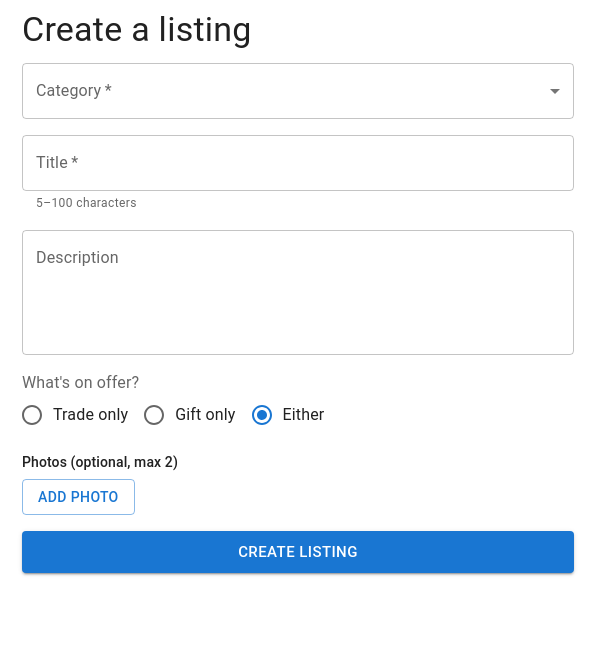
CreateListingPage › shows a server-side validation error inline
Click the dropdown named "category": (298, 91) x1=22 y1=63 x2=574 y2=119
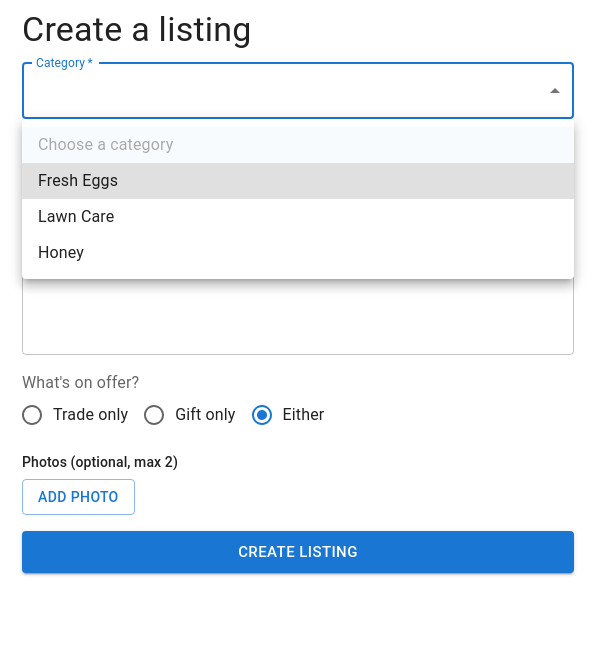
Click the option "Fresh Eggs": (78, 180) x1=22 y1=163 x2=574 y2=199
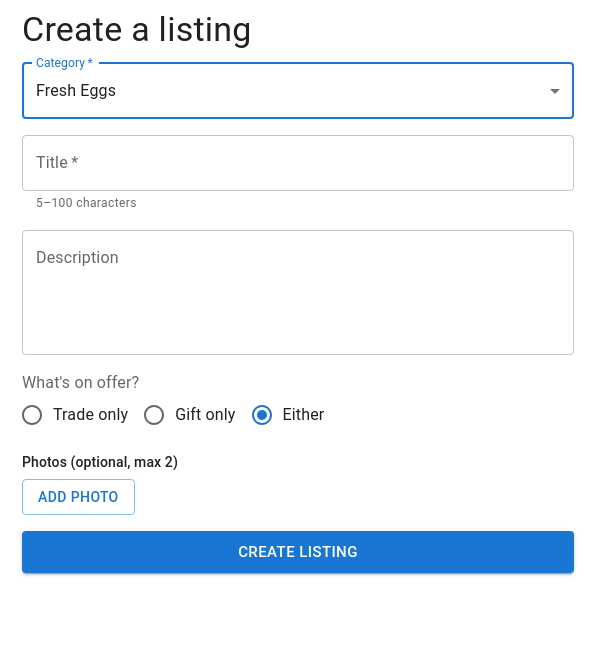
In the field labelled "Title *": (298, 163) x1=22 y1=135 x2=574 y2=191, type "Fresh garden eggs"
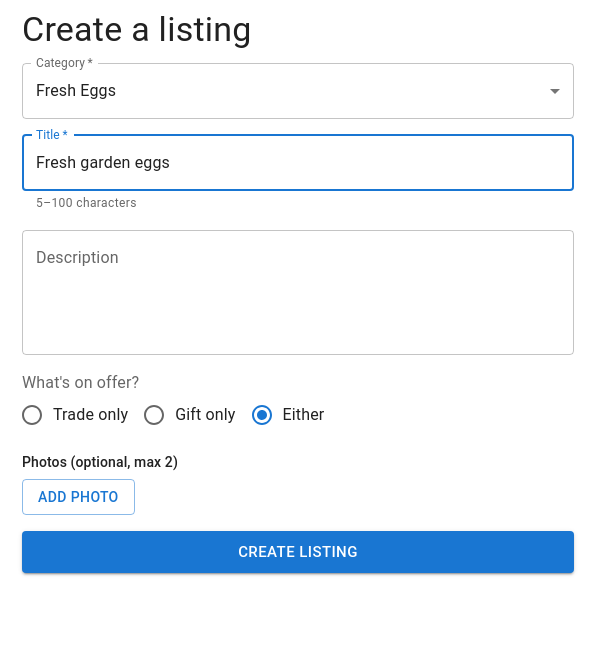
Click the button "Create listing": (298, 552) x1=22 y1=531 x2=574 y2=573
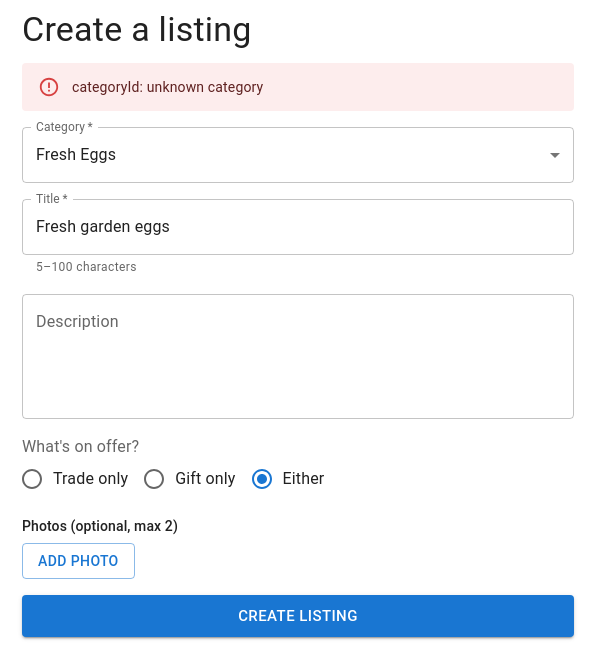
Check: the text "categoryId: unknown category" is shown, box x1=72 y1=79 x2=263 y2=95
